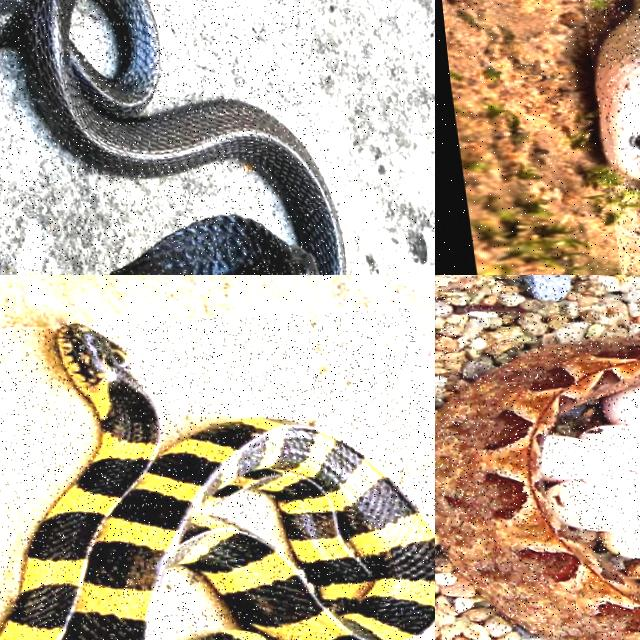Bungarus candidus: (595, 0, 639, 178)
Bungarus fasciatus: (0, 324, 434, 639)
Calloselasma rhodostoma: (435, 336, 639, 639)
Naja kaouthia: (0, 0, 344, 274)
snake: (0, 324, 434, 639), (0, 0, 344, 274), (435, 336, 639, 639), (595, 0, 639, 178)
